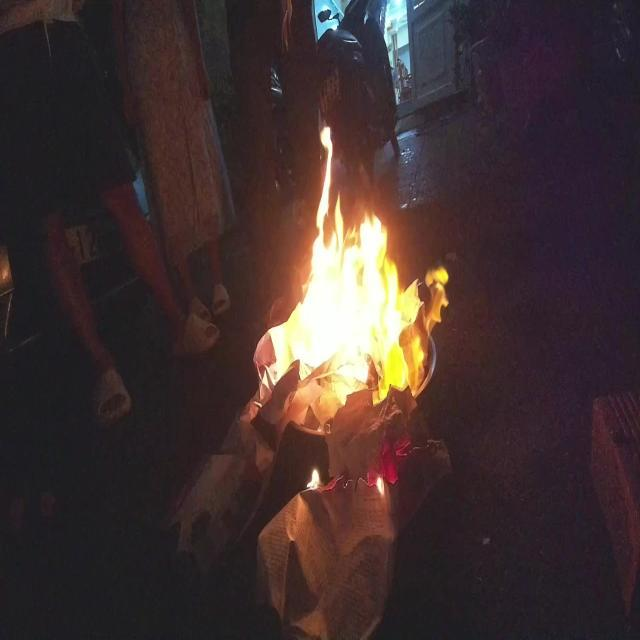Fire: (289, 122, 451, 410)
